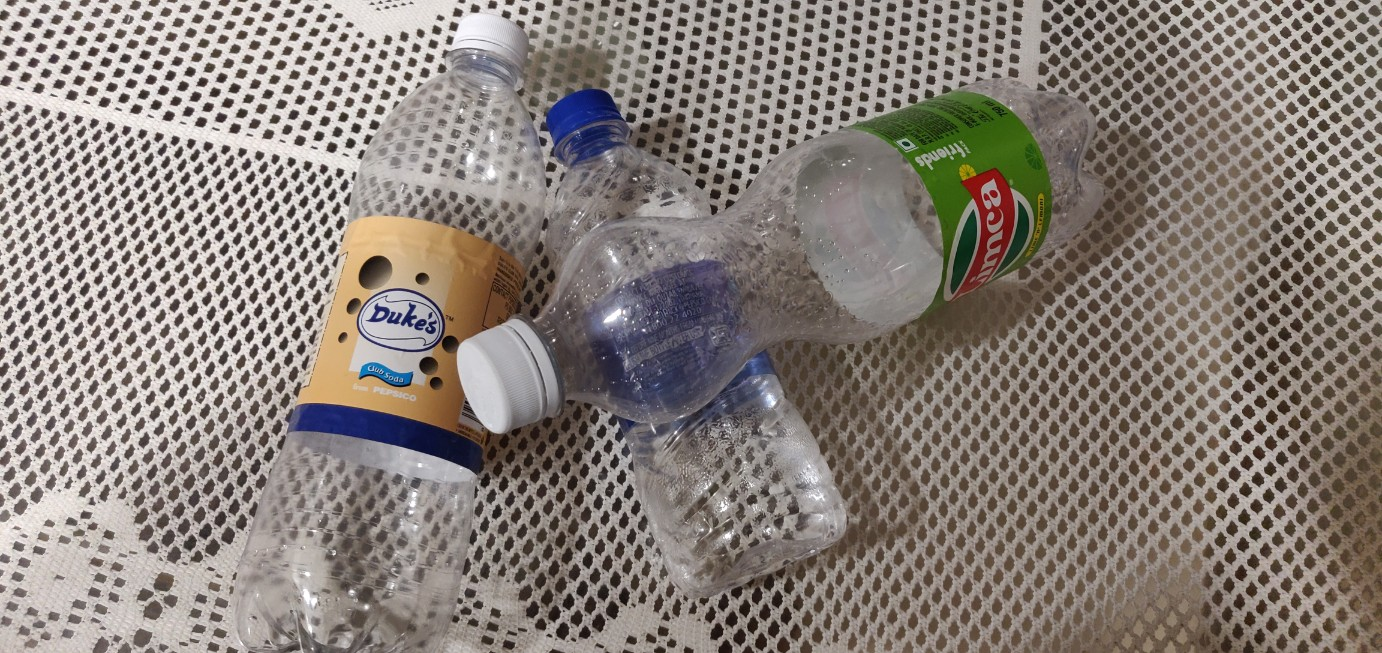Electronics: (445, 62, 1183, 449), (216, 6, 604, 652), (526, 49, 881, 609)
